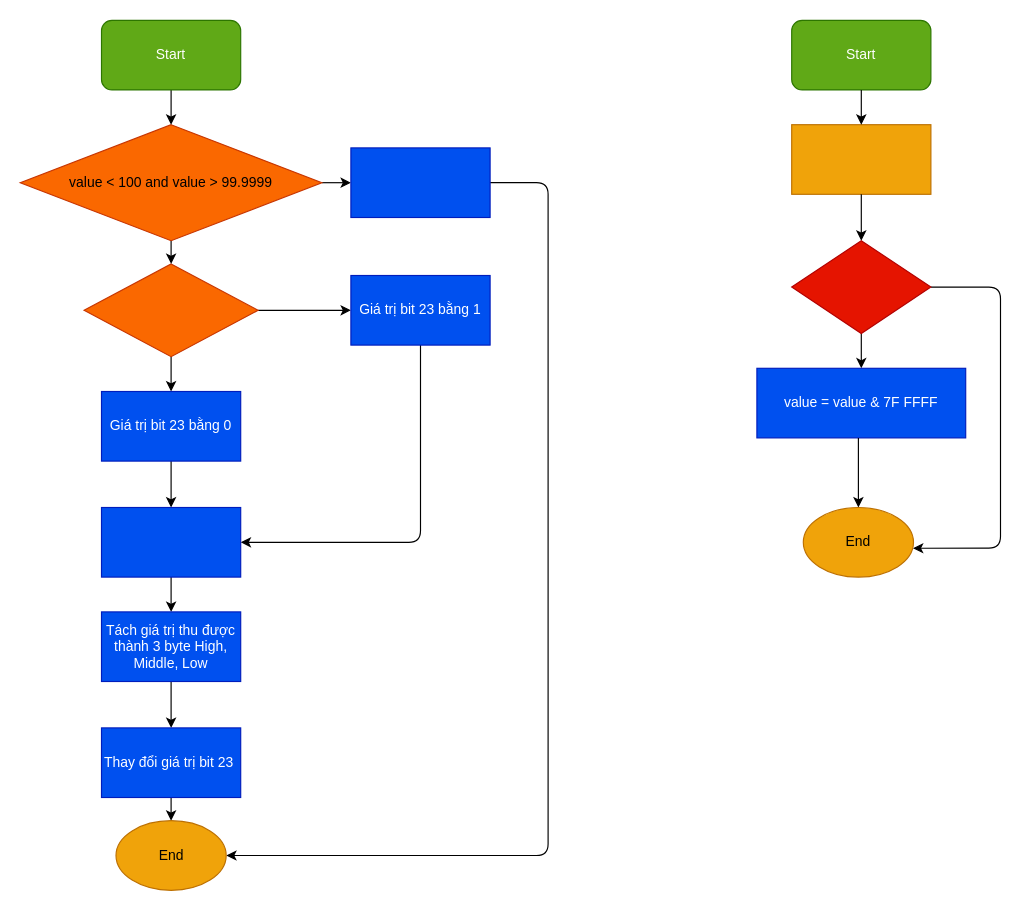
The diagram is 1030 pixels wide and 911 high, and some of its shapes have lost their labels. Here are the shapes that lost their labels. From the top down, the centre of each, then its label:
At point 861,159: "Ghép 3 bytes High, Middle, Low".
At point 420,182: "Return fail".
At point 861,287: "value >= 0x800000".
At point 170,310: "value > 0 ?".
At point 170,541: "Nhân trị truyệt đối giá trị thu được cho 10000".
